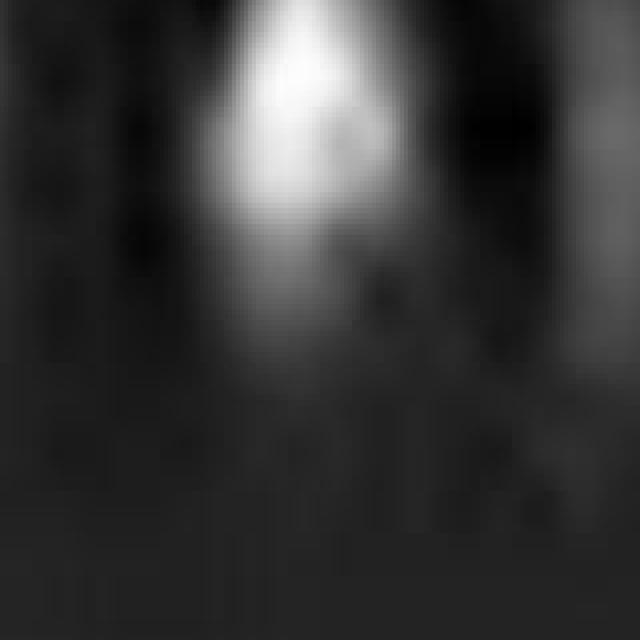person: (221, 1, 417, 385), (545, 1, 640, 422)
